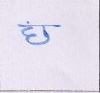anusvara: (27, 21, 29, 24)
